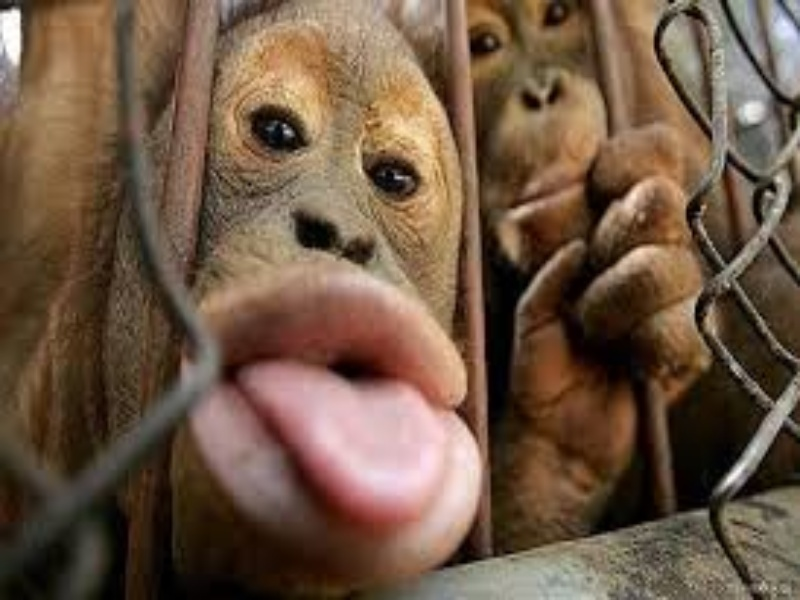monkey: (93, 16, 573, 495), (466, 4, 721, 259)
